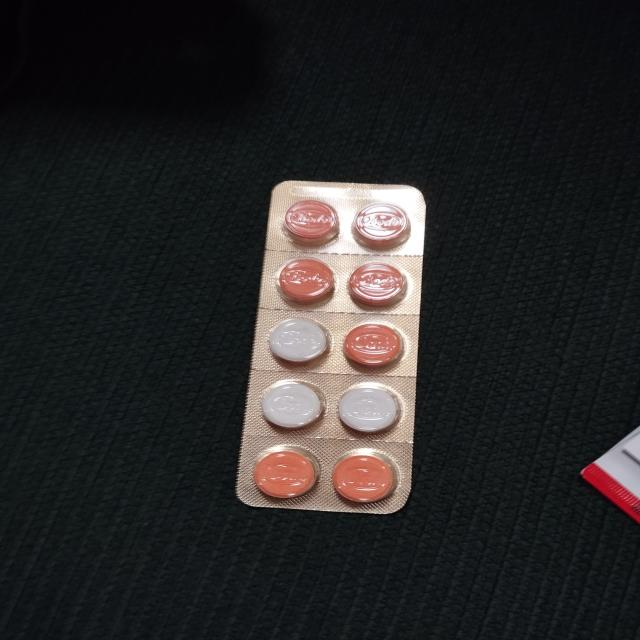B3: (233, 181, 427, 511)
